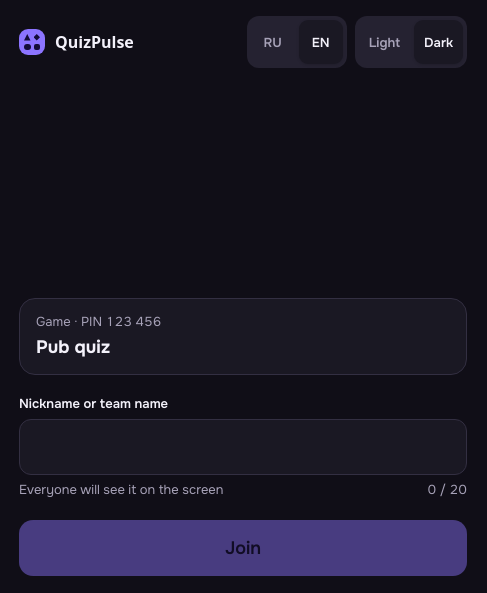
Test: play join › NICKNAME_TAKEN marks nickname field
Type "  Cat  " into the field labelled "Nickname or team name" at (243, 448), box [19,420,467,476]
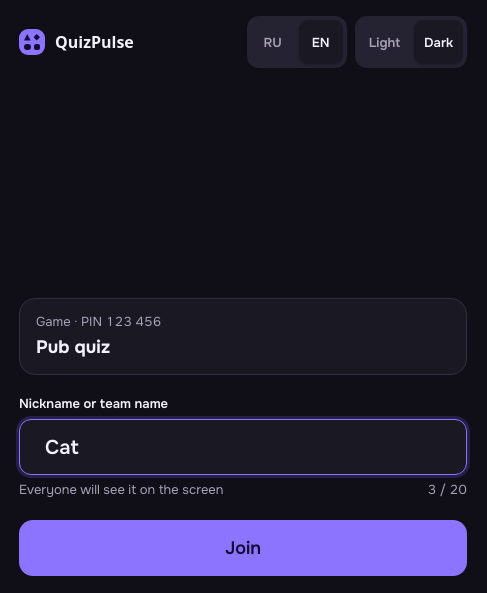
Expected: the text "3 / 20" is shown, [428,482,467,500]
Click the button "Join" at (243, 548), box [19,520,467,576]
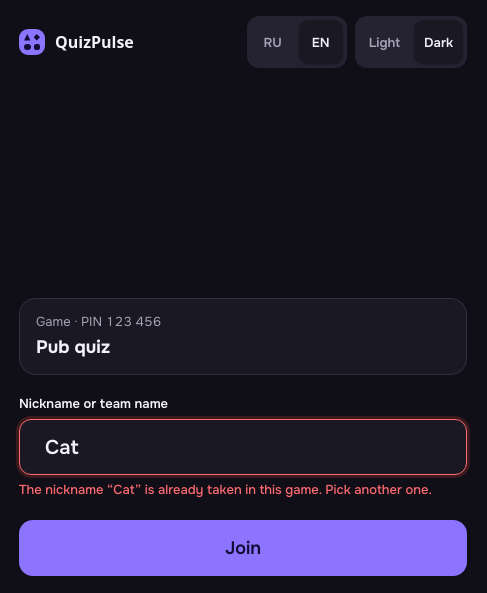
Expected: the text "The nickname “Cat” is already taken in this game. Pick another one." is shown, [19,482,467,500]
